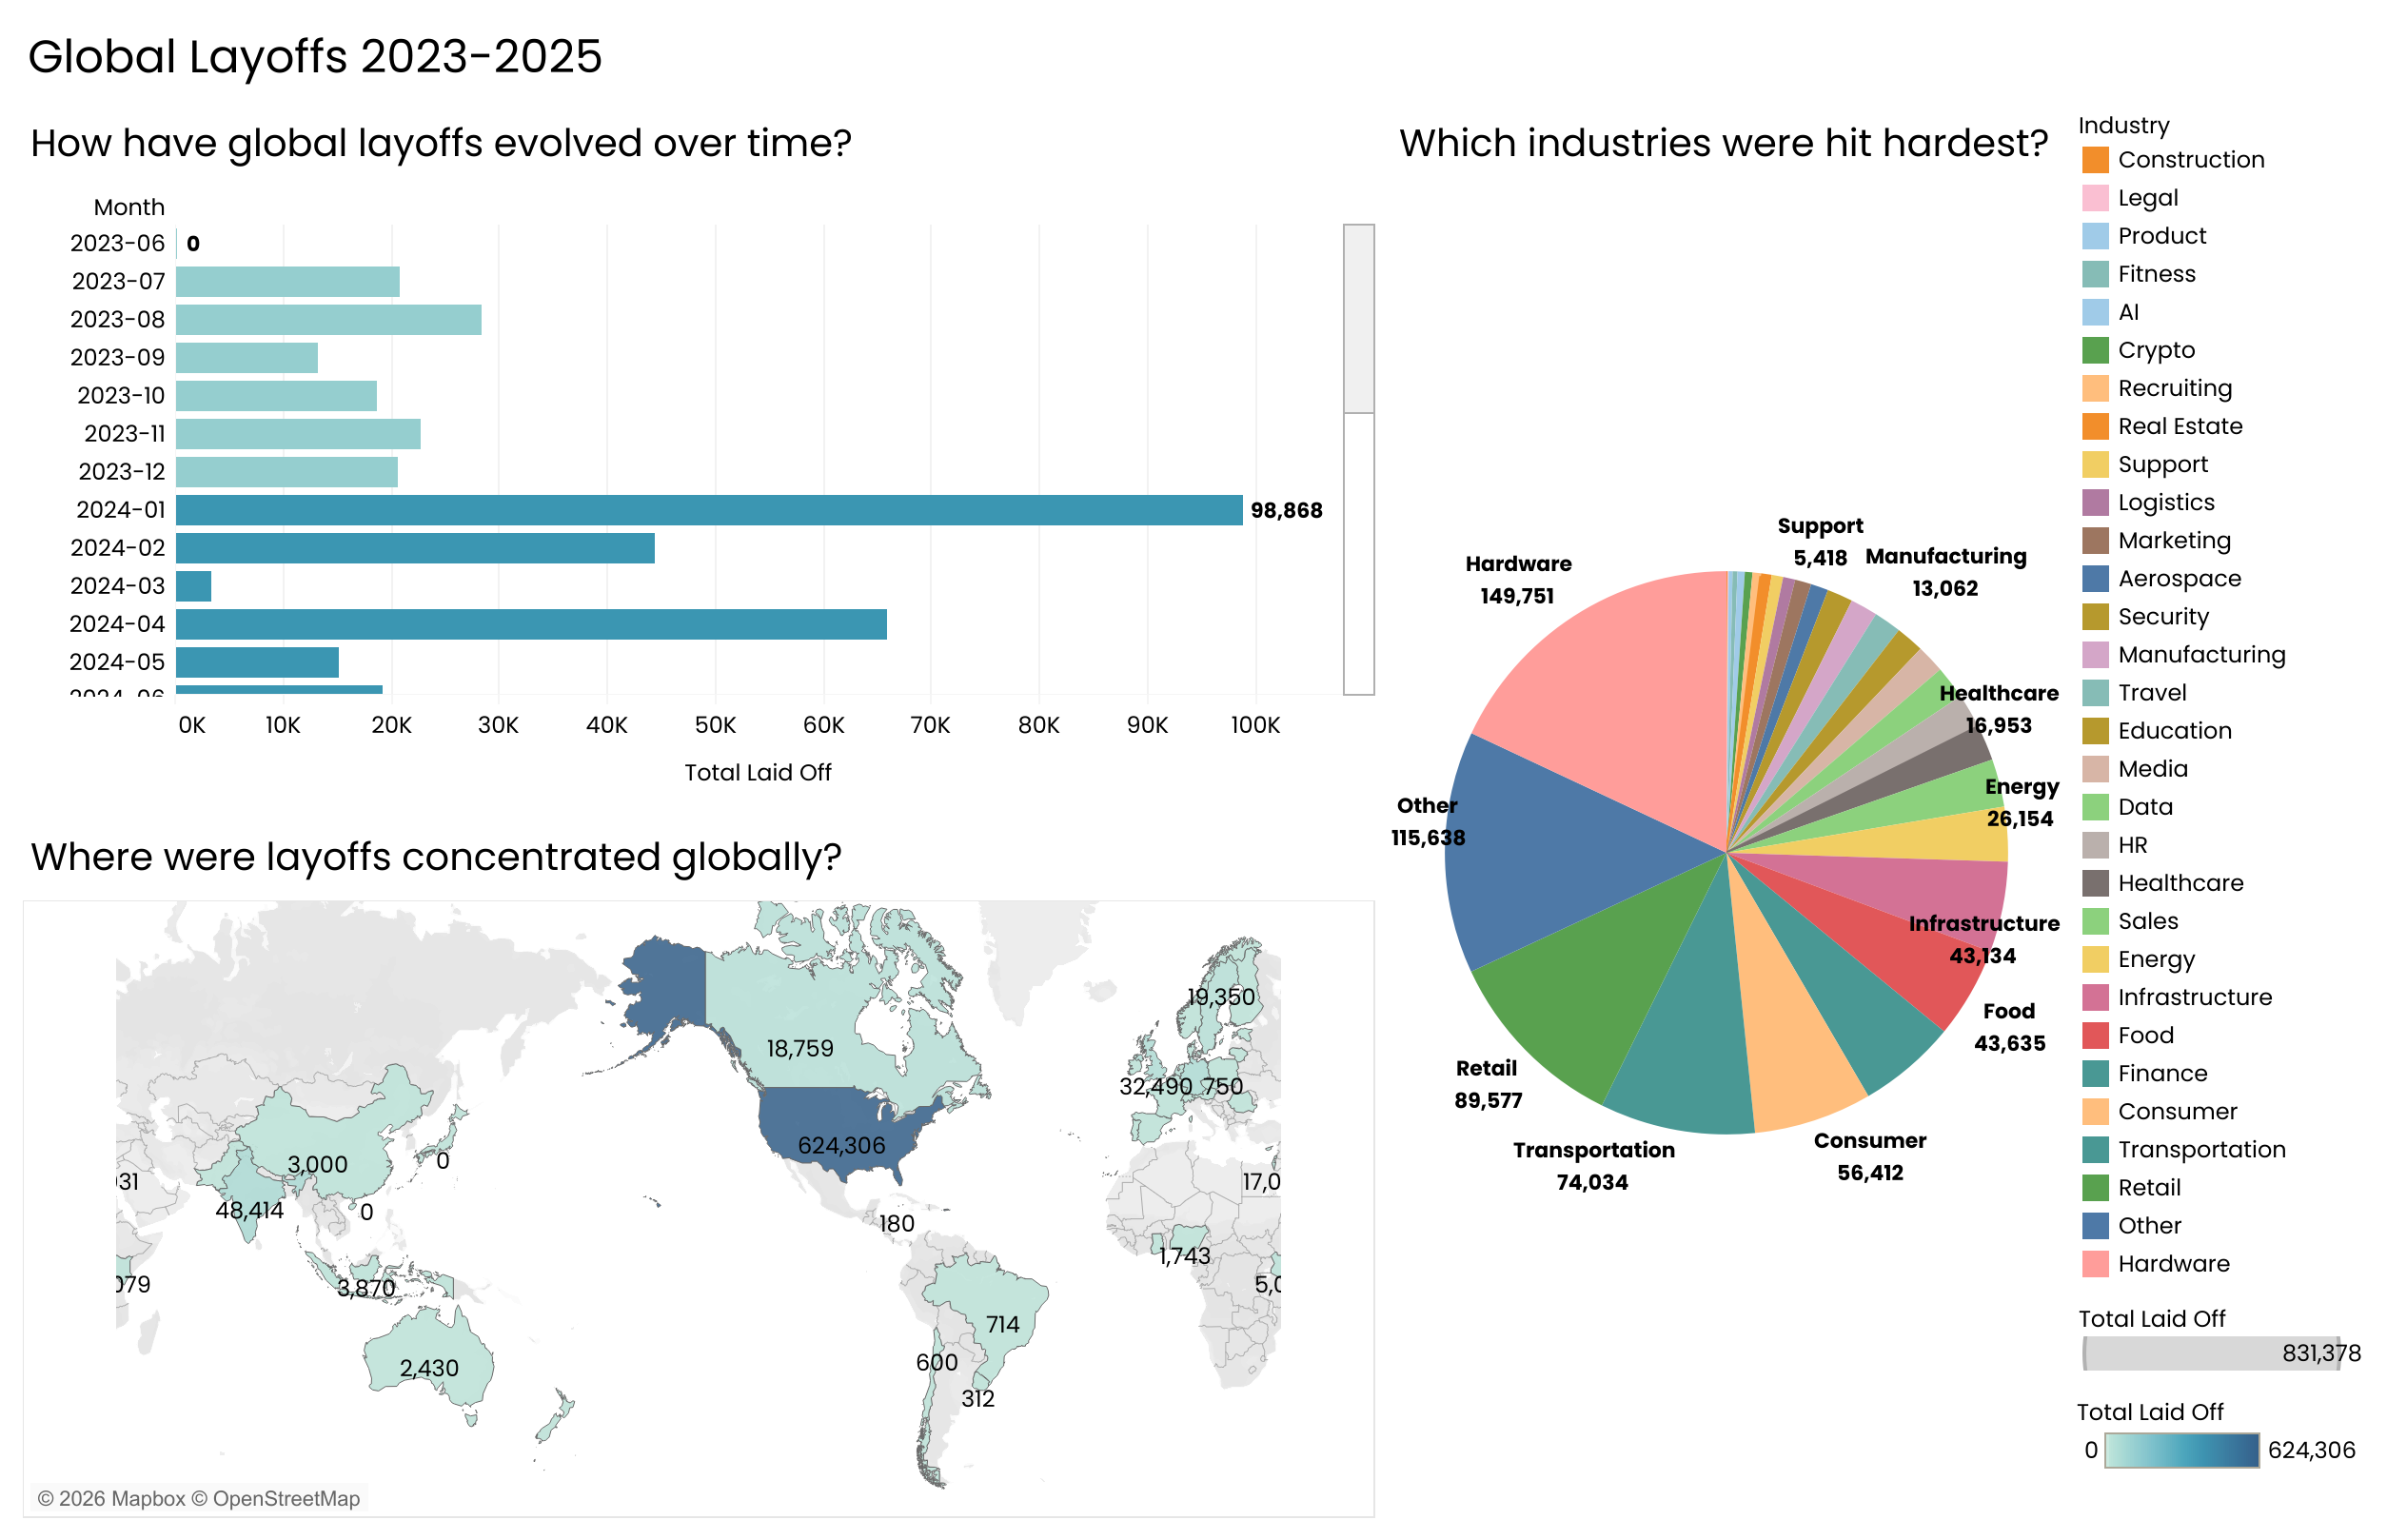

This screenshot's page, from the dashboard's own definition file:
{"tool":"tableau","page":{"name":"Dashboard 1","canvas":[1000,1000],"units":"permille","ordinal":0},"visuals":[{"type":"title","box":[5.3,9.7,989.3,51.1]},{"type":"worksheet","title":"Sheet 1","mark":"Automatic","rows":["month"],"cols":["total_laid_off"],"box":[5.3,60.8,588.4,464.7]},{"type":"worksheet","title":"Sheet 4","mark":"Pie","box":[593.7,60.8,294.2,929.5]},{"type":"legend","title":"Sheet 4","param":"[federated.0xh9mme17zxayf1d6woho124r256].[none:industry:nk]","box":[887.9,60.8,106.7,761.6]},{"type":"worksheet","title":"Sheet 5","mark":"Automatic","box":[5.3,525.5,588.4,464.7]},{"type":"legend","title":"Sheet 4","param":"[federated.0xh9mme17zxayf1d6woho124r256].[sum:total_laid_off:qk]","box":[887.9,822.4,106.7,56]},{"type":"legend","title":"Sheet 5","param":"[federated.1jshabq0tdj0er1h0mt8s12n4ofu].[sum:total_laid_off:qk]","box":[887.9,878.3,106.7,79.1]}]}

Visuals, with their boxes on the dashboard's canvas, which has no fixed pixel size, in thousandths of its width and height (x1, y1, x2, y2). These are canvas units, not pixel positions in the 2387x1540 screenshot, which may show the page scaled, cropped or inside an application window:
title: <box>5,10,995,61</box>
"Sheet 1" worksheet: <box>5,61,594,526</box>
"Sheet 4" worksheet (Pie marks): <box>594,61,888,990</box>
"Sheet 4" legend: <box>888,61,995,822</box>
"Sheet 5" worksheet: <box>5,526,594,990</box>
"Sheet 4" legend: <box>888,822,995,878</box>
"Sheet 5" legend: <box>888,878,995,957</box>
